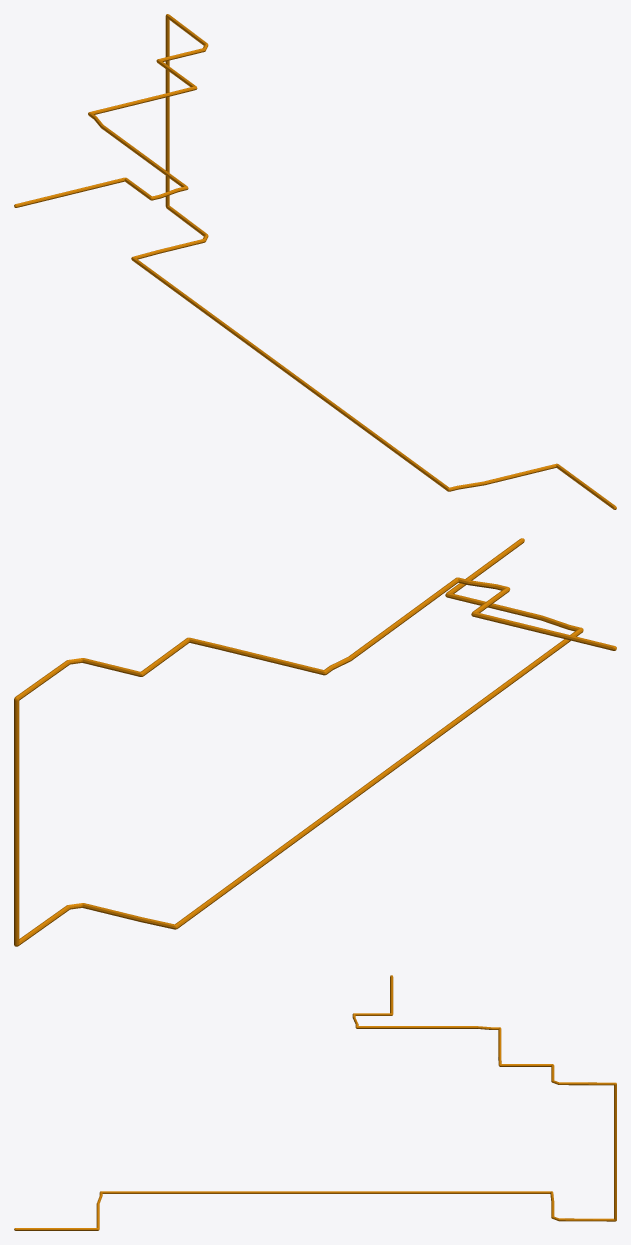
The picture shows the model from 3 angles, top to bottom: view 1: azimuth 30°, elevation 25°; view 2: azimuth 150°, elevation 25°; view 3: azimuth 270°, elevation 25°; orthographic projection. The views are drawn at different scales.
Bounding box in the file's own units: 1859 × 1020 × 4015.
